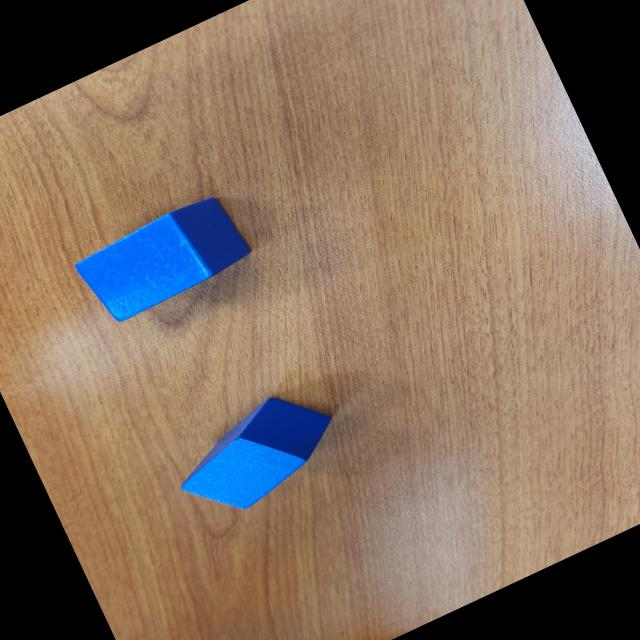blue: (160, 378, 352, 532), (69, 187, 258, 331)
